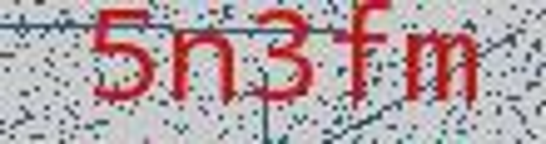3: (248, 4, 317, 104)
5: (80, 3, 160, 109)
f: (327, 1, 400, 120)
m: (400, 18, 490, 111)
n: (165, 23, 242, 113)
